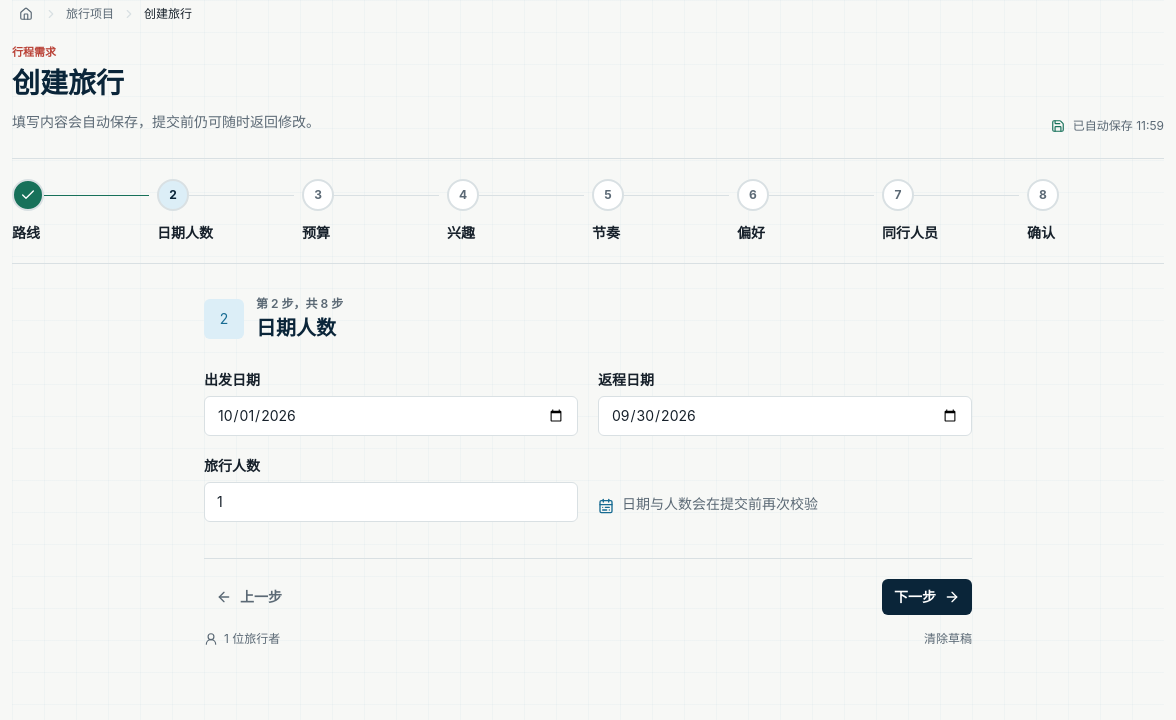
Scenario: TripWizardPage › keeps the user on the date step when the date range is inverted
Click the button "下一步" at [927, 597], box [882,579,972,615]
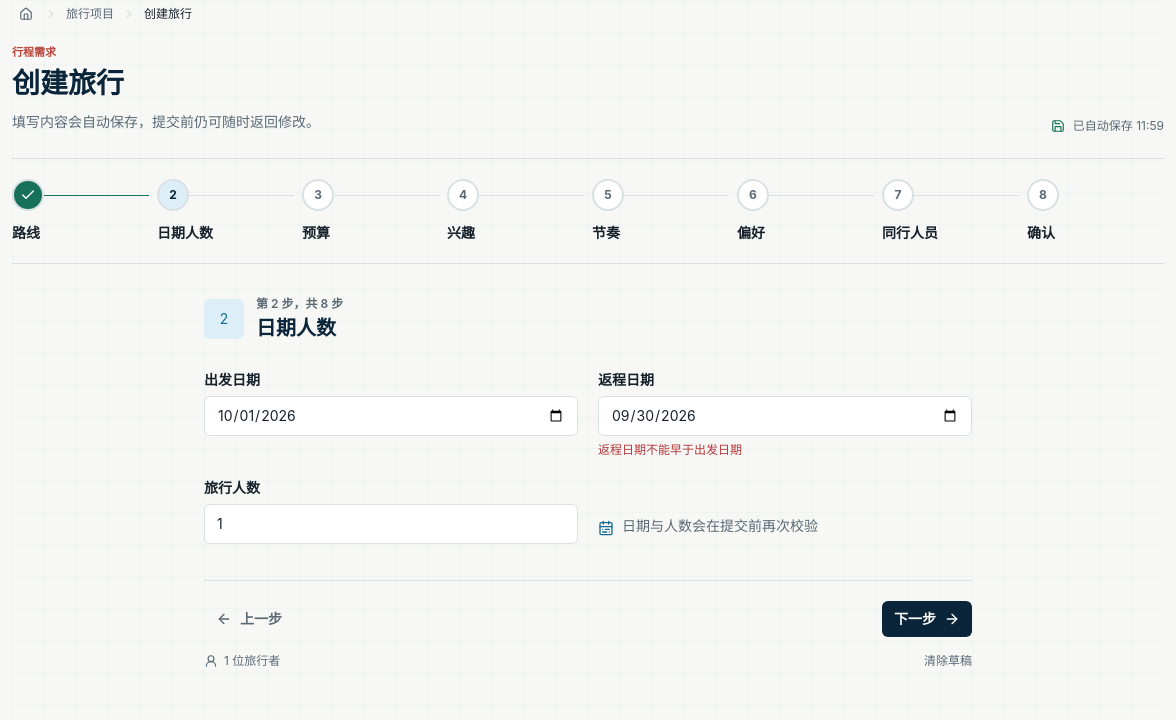
Expected: the heading "日期人数" is shown, [256,314,343,342]
Expected: the text "返程日期不能早于出发日期" is shown, [598,442,742,457]
